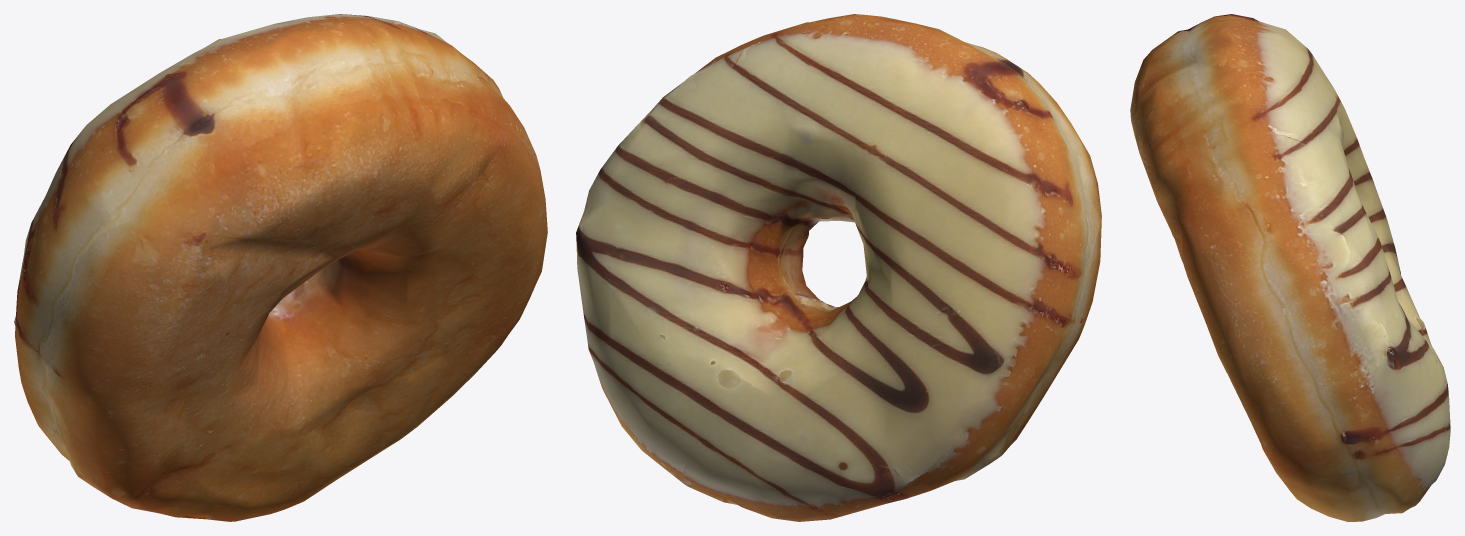
The model's file is BANH VONG MIN.obj.
3 views of the same model, side by side, from view 1: azimuth 30°, elevation 25°; view 2: azimuth 150°, elevation 25°; view 3: azimuth 270°, elevation 25° (orthographic). The views are drawn at different scales.
Bounding box in the file's own units: 2.28 × 2.23 × 1.44.
1 material, 1 textured.
